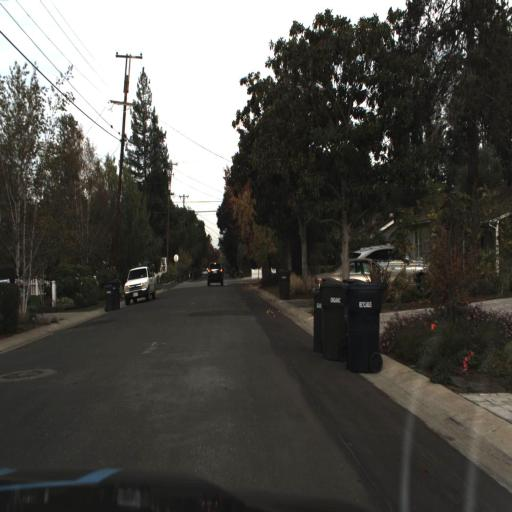car: (308, 257, 395, 296), (314, 260, 401, 294), (358, 240, 435, 276), (355, 241, 429, 274), (120, 258, 157, 310), (121, 264, 158, 306), (205, 258, 225, 288)
